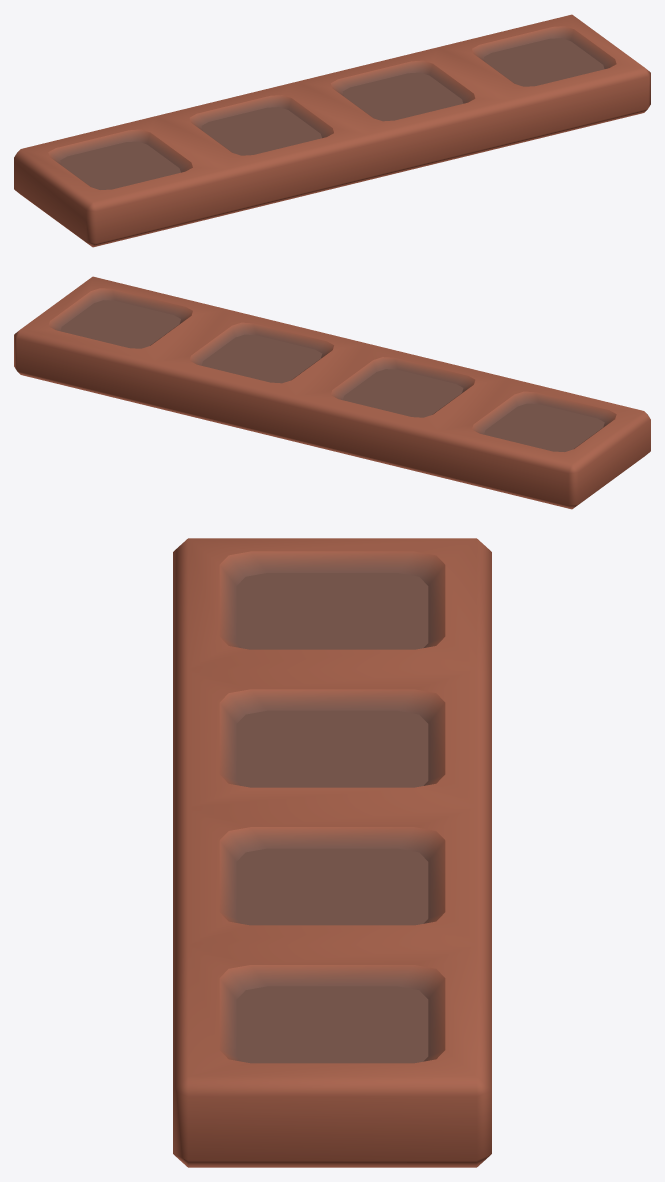
The model's file is BridgeChocolate_02.glb.
The picture shows the model from 3 angles, top to bottom: view 1: azimuth 30°, elevation 25°; view 2: azimuth 150°, elevation 25°; view 3: azimuth 270°, elevation 25°; orthographic projection. The views are drawn at different scales.
Visible parts, largest first — view 1: BridgeChocolate_02; view 2: BridgeChocolate_02; view 3: BridgeChocolate_02.
Boxes of the visible parts, bbox=[...] form: BridgeChocolate_02: bbox=[14, 14, 650, 247]; BridgeChocolate_02: bbox=[14, 276, 650, 509]; BridgeChocolate_02: bbox=[173, 538, 491, 1167].
Bounding box in the file's own units: 4.07 × 0.3139 × 0.9955.
1 material, 1 textured.
